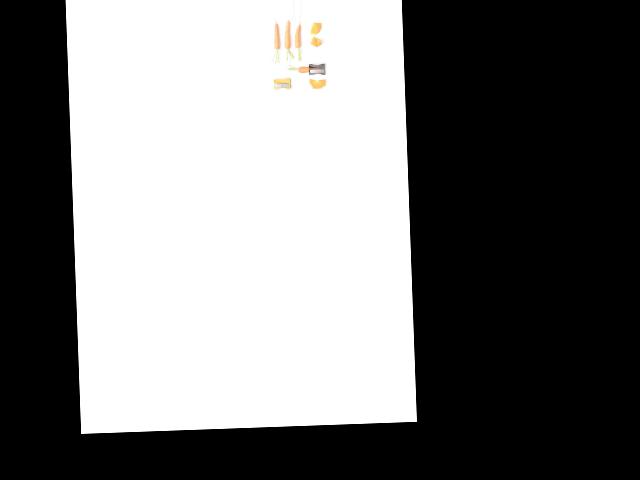carrot: (290, 22, 306, 51)
